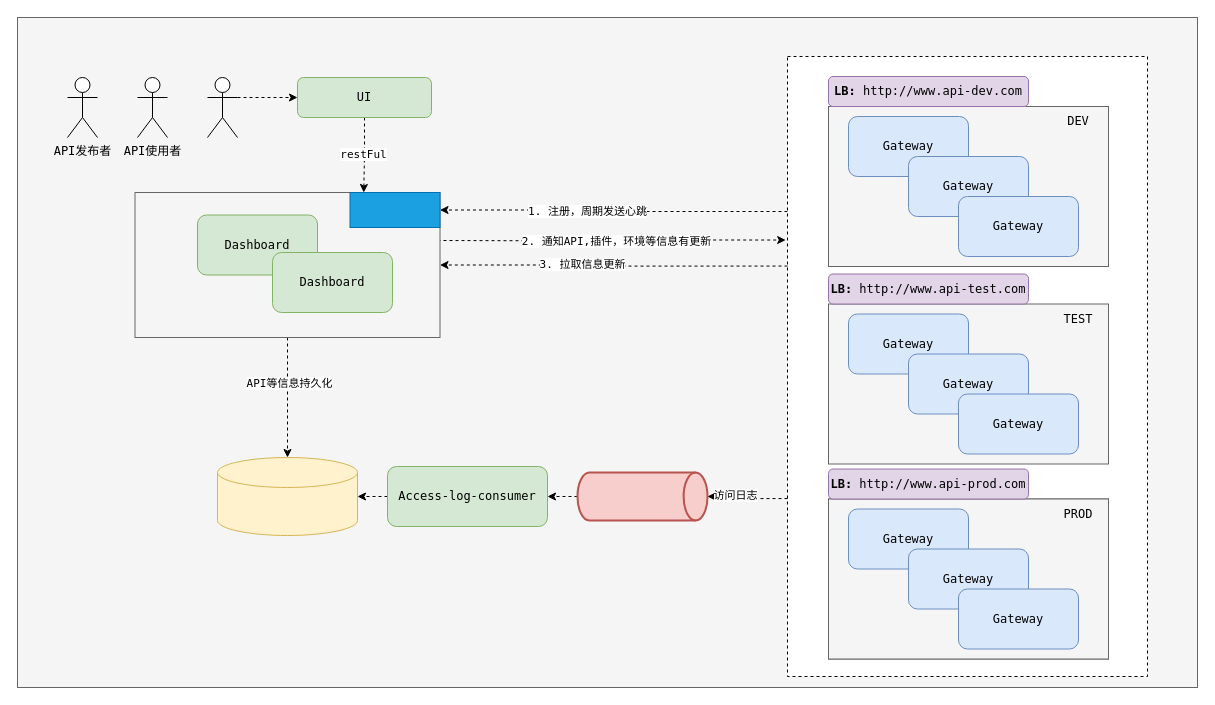
The diagram is 1215 pixels wide and 705 high, and some of its shapes have lost their labels. Here are the shapes that lost their labels. From the top down, the centre of each, then its label:
(222,107): 系统管理员
(394,210): API管理接口
(287,496): DataBase （Mongodb）
(642,496): Kafka
